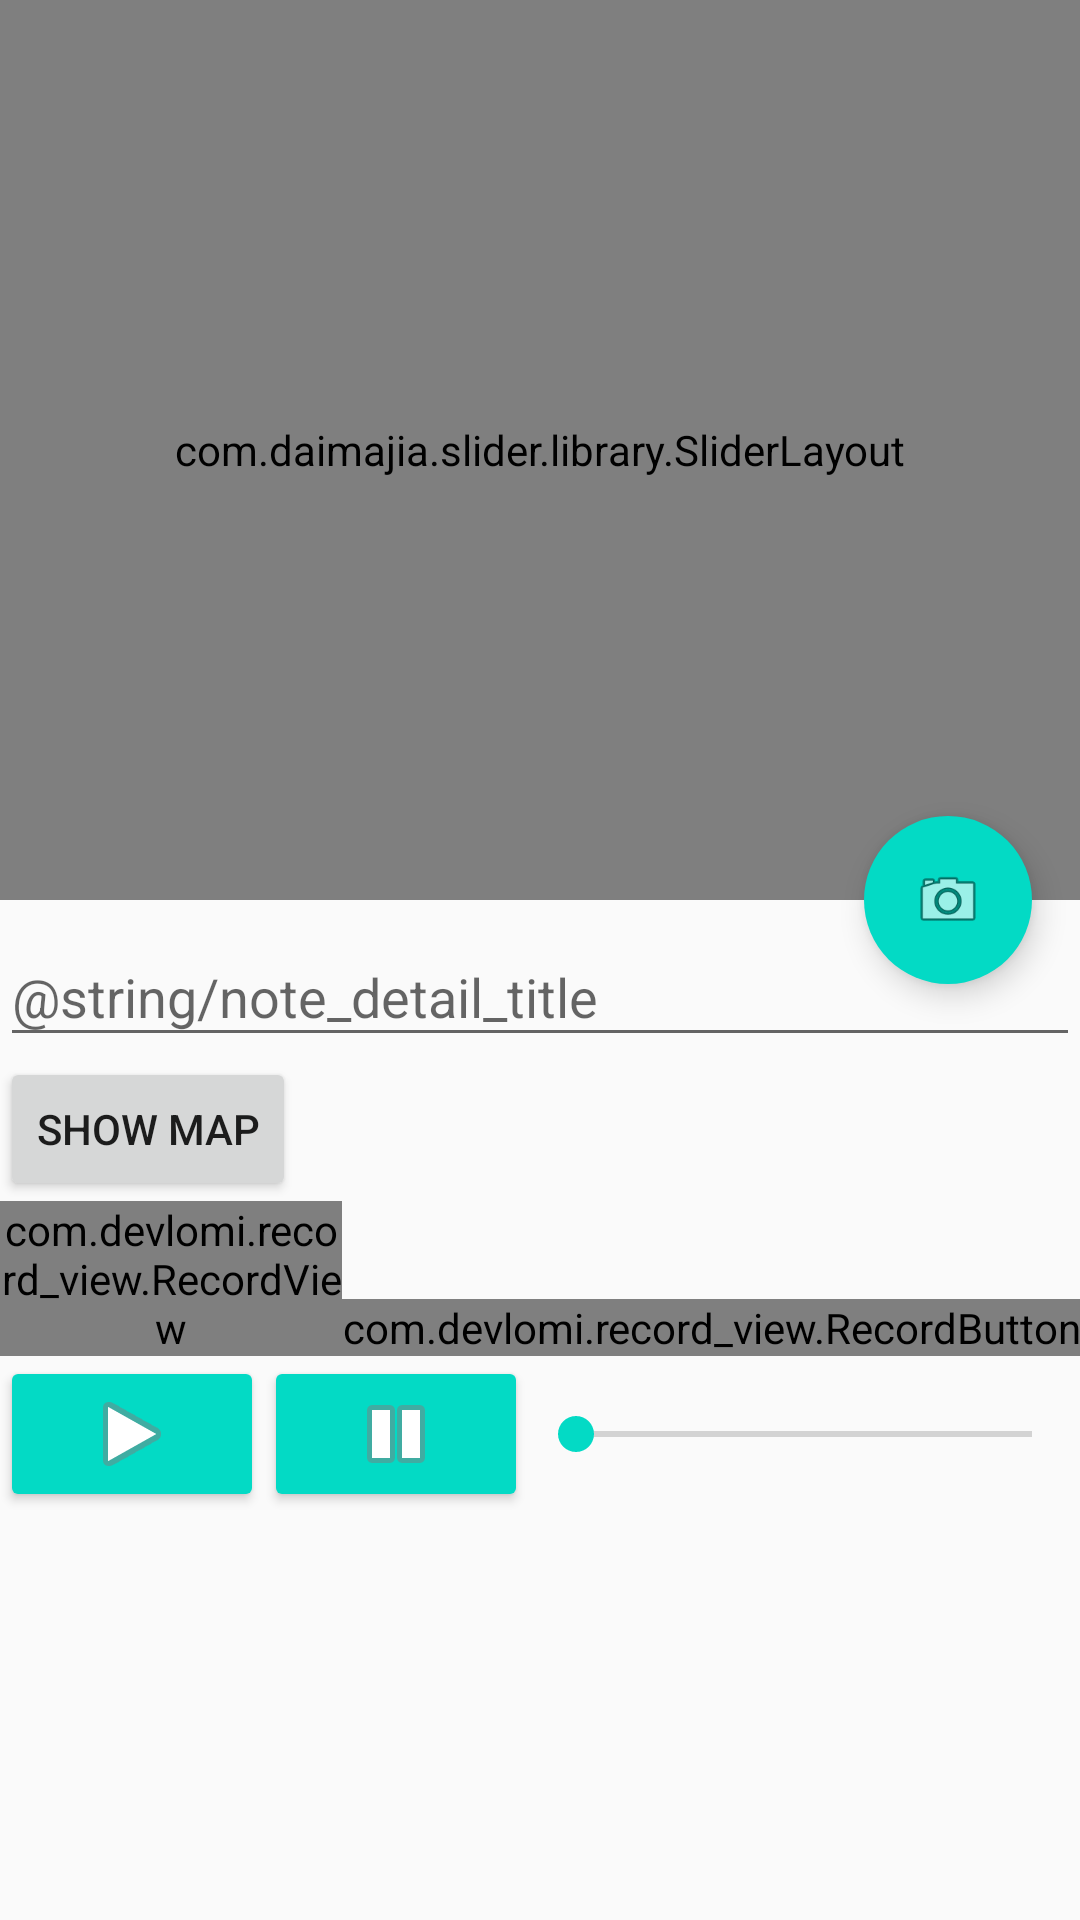

Icons on this 1080*1920 Android screen, each with the point to tap as [x,y]:
pause: [395,1436]
play: [131,1436]
